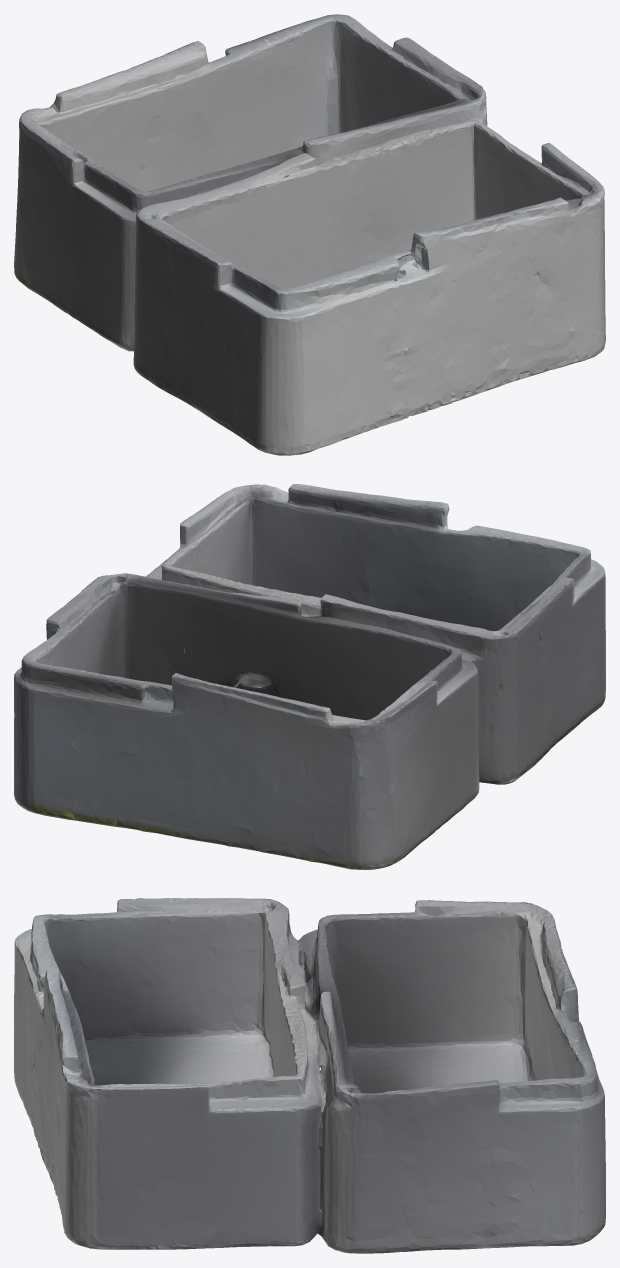
3 views of the same model, one above another, from view 1: azimuth 30°, elevation 25°; view 2: azimuth 150°, elevation 25°; view 3: azimuth 270°, elevation 25° (orthographic). The views are drawn at different scales.
Parts seen in each view (by area): view 1: world; view 2: world; view 3: world.
Boxes of the visible parts, bbox=[...] form: world: bbox=[14, 14, 605, 455]; world: bbox=[14, 484, 605, 869]; world: bbox=[14, 898, 605, 1253].
Size of the model in its own units: 0.7636 by 0.3227 by 0.9647.
1 material, 1 textured.
